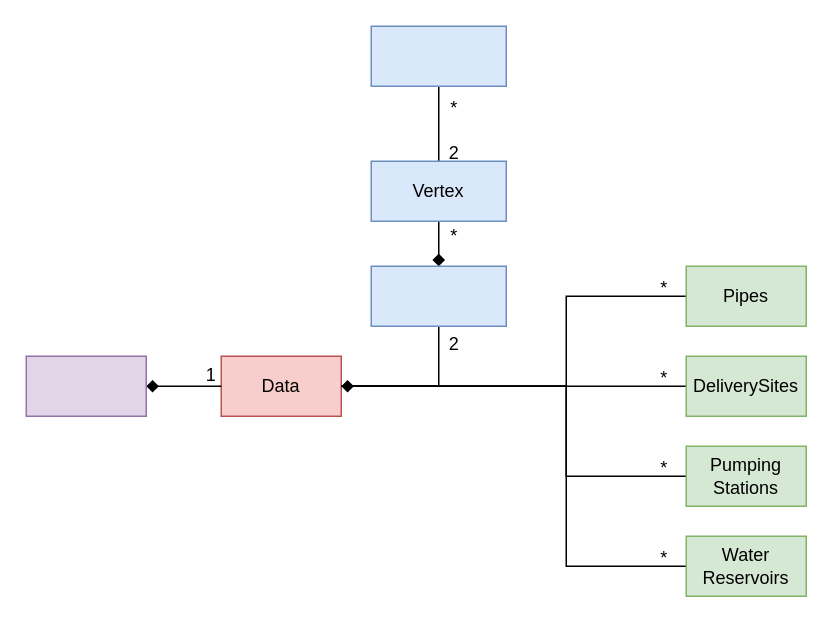
Some shapes in this 833 by 623 pixel diagram are drawn without their labels. Here are the shapes that lost their labels. From the top down, the box of each, then its label:
(370, 25, 506, 86): Edge
(370, 265, 506, 326): Graph
(25, 355, 146, 416): Menu
